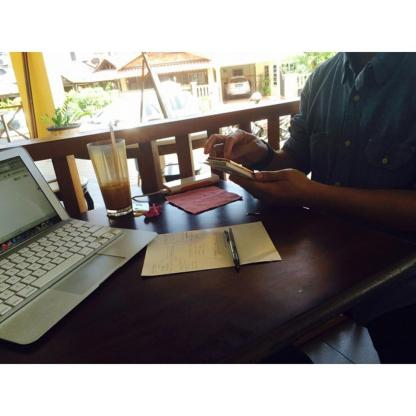board: (0, 136, 140, 354), (88, 138, 134, 219)
